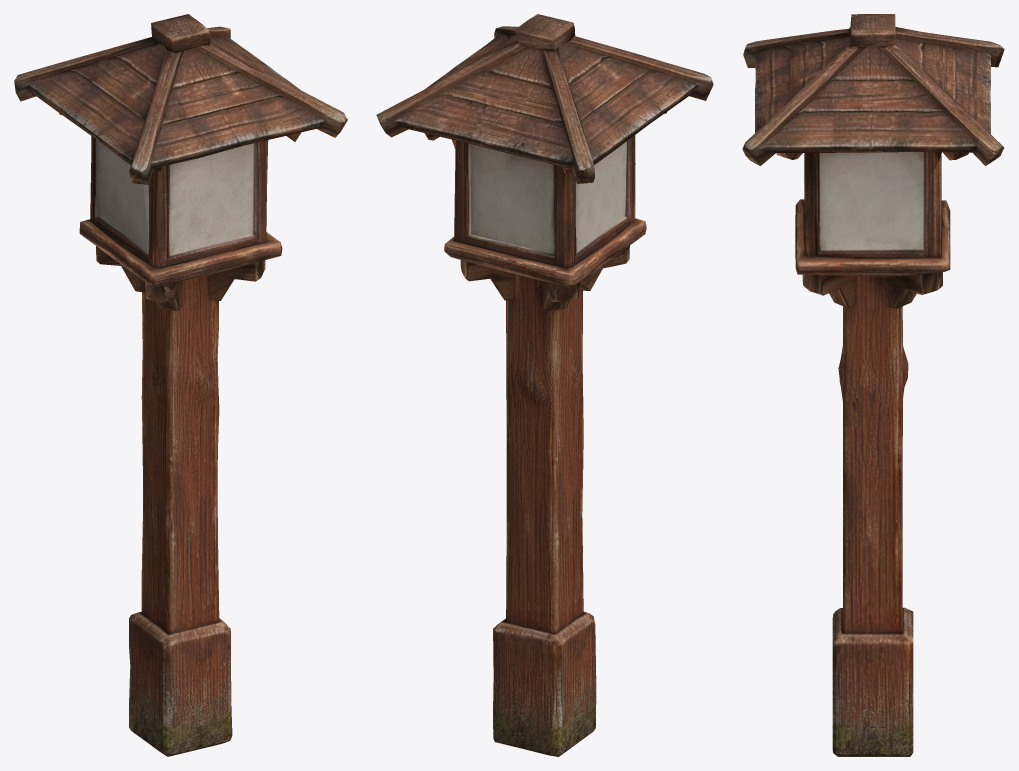
Rendered from street_lamp.glb.
3 views of the same model, side by side, from view 1: azimuth 30°, elevation 25°; view 2: azimuth 150°, elevation 25°; view 3: azimuth 270°, elevation 25° (orthographic).
Parts seen in each view (by area): view 1: wooden lantern lamp 3d model; view 2: wooden lantern lamp 3d model; view 3: wooden lantern lamp 3d model.
Part boxes in pixels (box(x1,y1,x2,y2)): wooden lantern lamp 3d model: box(14, 14, 347, 756); wooden lantern lamp 3d model: box(376, 14, 713, 756); wooden lantern lamp 3d model: box(742, 14, 1004, 756).
Bounding box in the file's own units: 0.7363 × 2.3 × 0.7543.
Materials: 1 (1 with a texture image).
